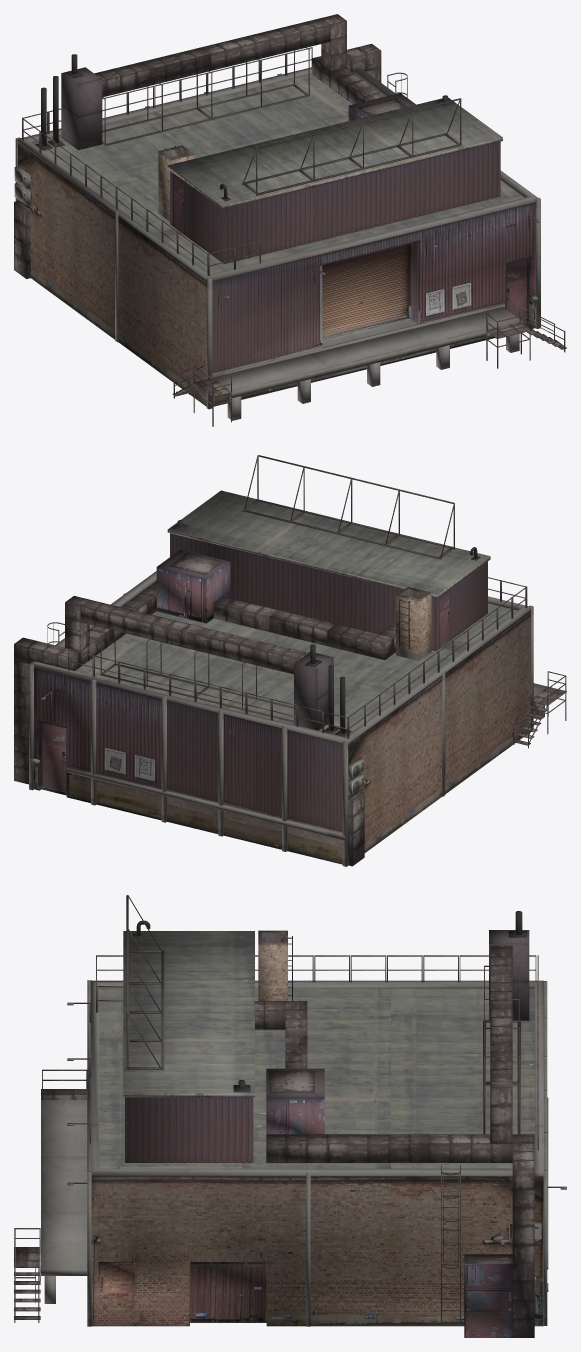
Rendered from Side_Building.glb.
3 views of the same model, one above another, from view 1: azimuth 30°, elevation 25°; view 2: azimuth 150°, elevation 25°; view 3: azimuth 270°, elevation 25° (orthographic). The views are drawn at different scales.
Parts seen in each view (by area): view 1: Side_Building; view 2: Side_Building; view 3: Side_Building.
Part boxes in pixels (<box>): Side_Building: <box>14,14,566,426</box>; Side_Building: <box>14,455,566,866</box>; Side_Building: <box>14,895,566,1337</box>.
Bounding box in the file's own units: 28.82 × 17.49 × 31.66.
1 material, 1 textured.
